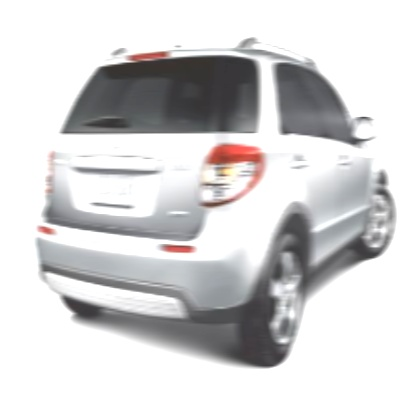Vehicle: (32, 15, 394, 366)
